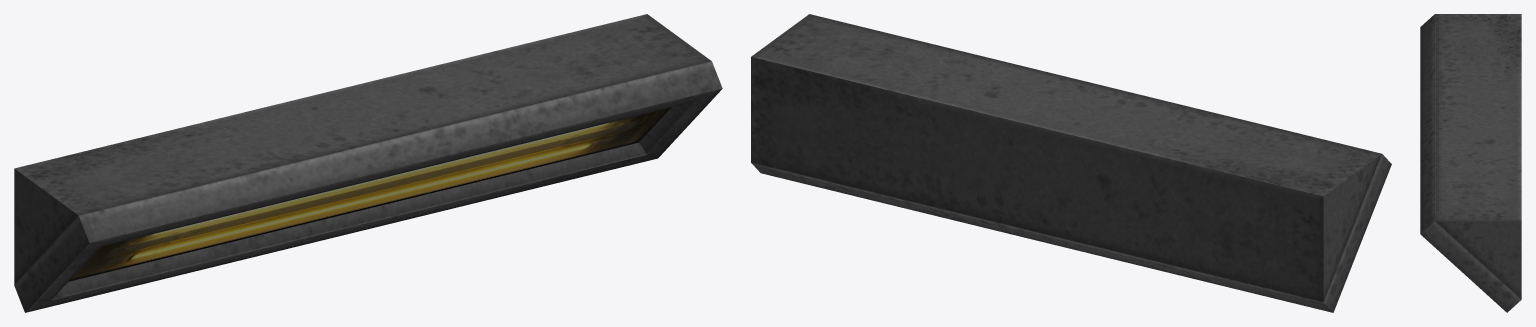
File: lamp_3_on.obj
The picture shows the model from 3 angles, left to right: view 1: azimuth 30°, elevation 25°; view 2: azimuth 150°, elevation 25°; view 3: azimuth 270°, elevation 25°; orthographic projection. The views are drawn at different scales.
Parts seen in each view (by area): view 1: lamp_3_on; view 2: lamp_3_on; view 3: lamp_3_on.
Boxes of the visible parts, box(x1,y1,x2,y2) form: lamp_3_on: box(14, 14, 722, 312); lamp_3_on: box(751, 14, 1391, 312); lamp_3_on: box(1420, 14, 1521, 312).
Bounding box in the file's own units: 1.2 × 0.2475 × 0.2475.
